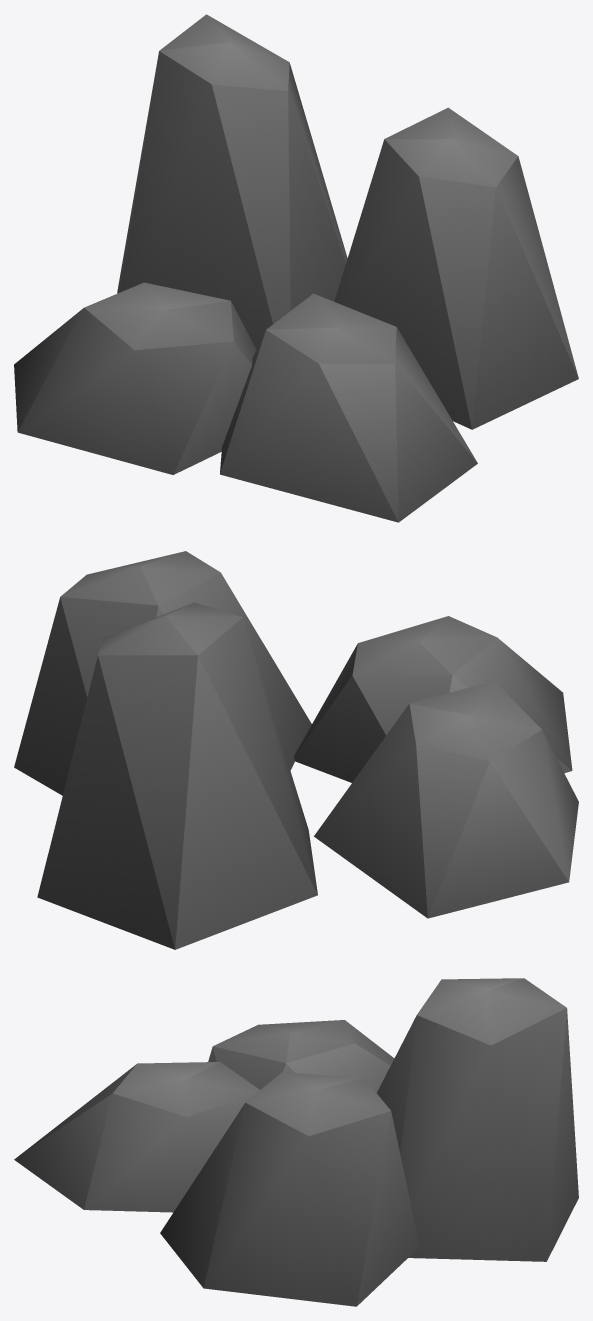
File: Stone_4.fbx
3 renders of one model, top to bottom at view 1: azimuth 30°, elevation 25°; view 2: azimuth 150°, elevation 25°; view 3: azimuth 270°, elevation 25°, orthographic. The views are drawn at different scales.
Parts seen in each view (by area): view 1: Icosphere.008, Icosphere.006, Icosphere.007, Icosphere.005; view 2: Icosphere.008, Icosphere.005, Icosphere.006, Icosphere.007; view 3: Icosphere.008, Icosphere.006, Icosphere.007, Icosphere.005.
Boxes of the visible parts, x1=… form: Icosphere.008: x1=117, y1=14, x2=347, y2=349; Icosphere.006: x1=334, y1=107, x2=578, y2=429; Icosphere.007: x1=220, y1=293, x2=477, y2=522; Icosphere.005: x1=14, y1=282, x2=256, y2=474; Icosphere.008: x1=37, y1=602, x2=317, y2=949; Icosphere.005: x1=314, y1=681, x2=578, y2=918; Icosphere.006: x1=14, y1=551, x2=311, y2=795; Icosphere.007: x1=294, y1=616, x2=572, y2=782; Icosphere.008: x1=377, y1=978, x2=578, y2=1261; Icosphere.006: x1=160, y1=1072, x2=419, y2=1306; Icosphere.007: x1=14, y1=1062, x2=259, y2=1212; Icosphere.005: x1=208, y1=1020, x2=394, y2=1092.
Bounding box in the file's own units: 127 × 62.33 × 137.
